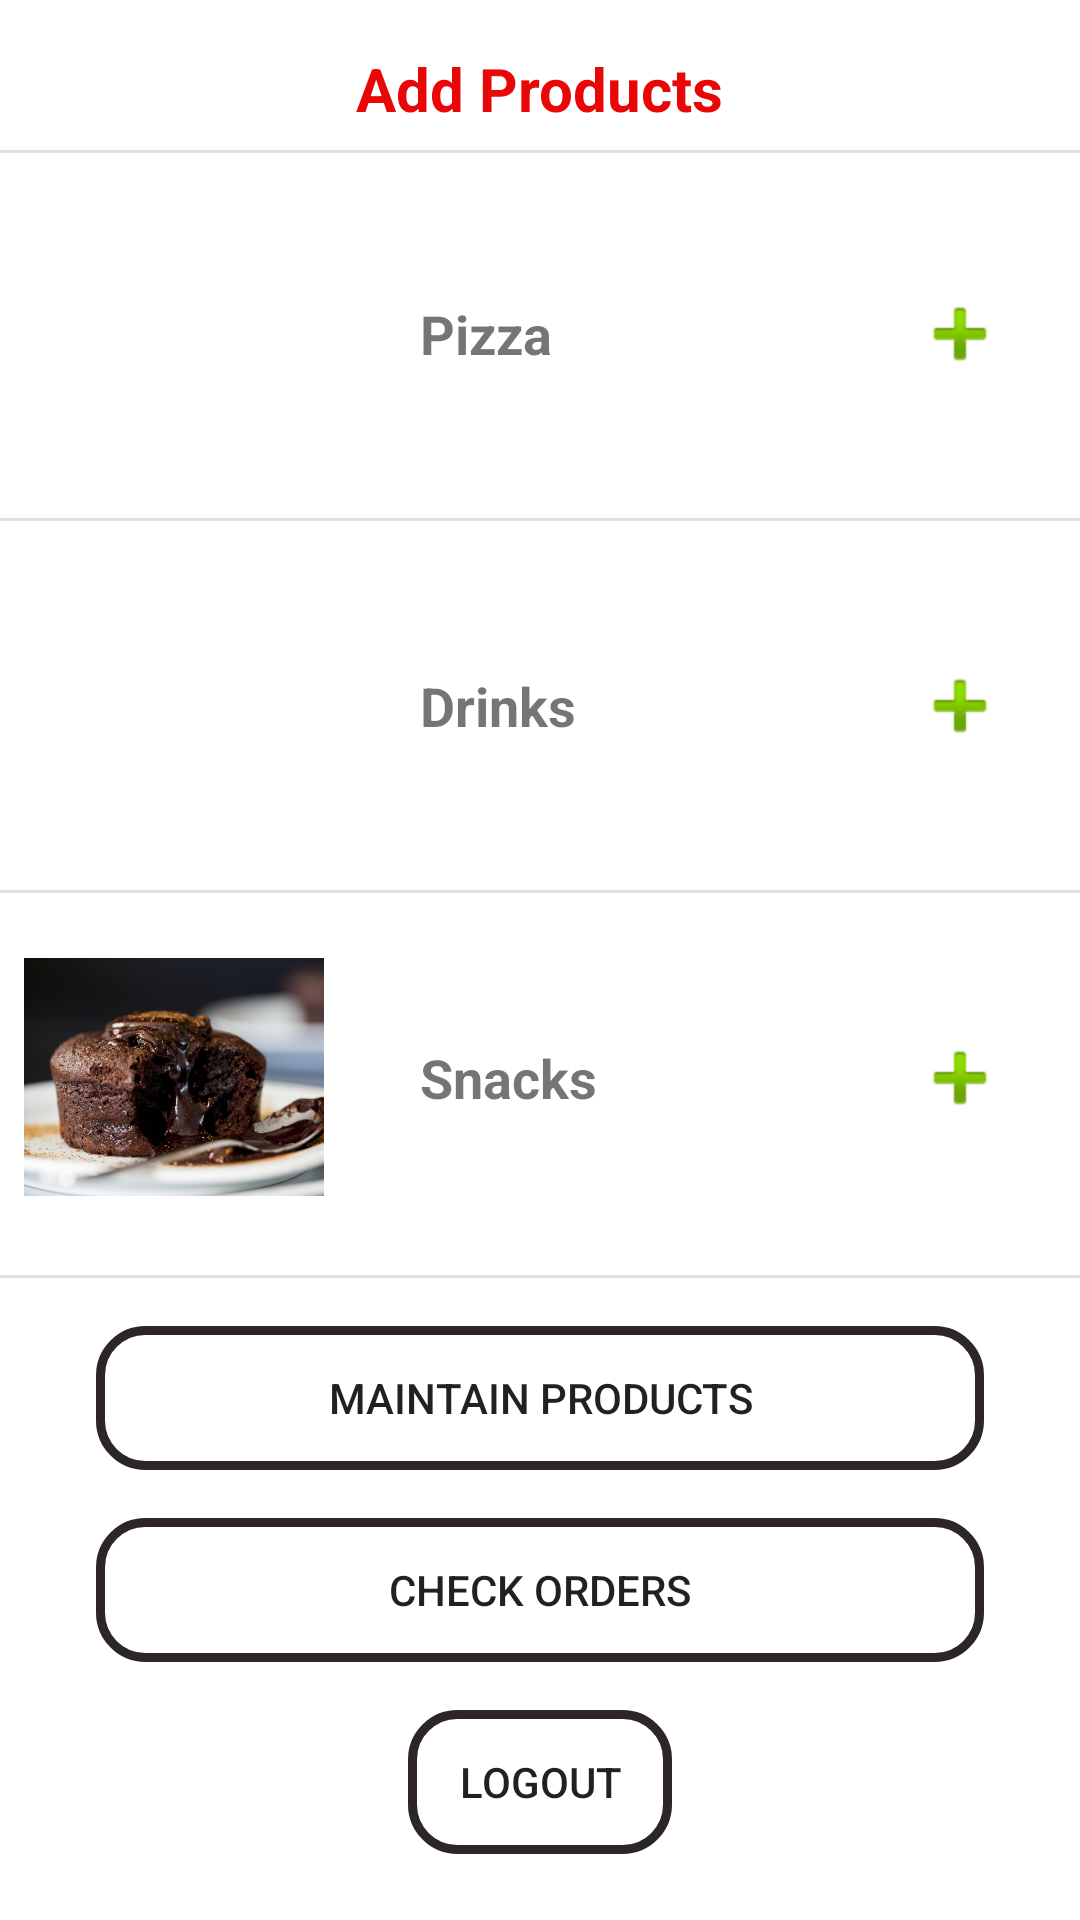

Icons on this 1080 x 1920 Android screen, each with its box as (x1, y1, x2, y2):
add: (933, 307, 987, 361), (933, 679, 987, 733), (933, 1051, 987, 1105)
